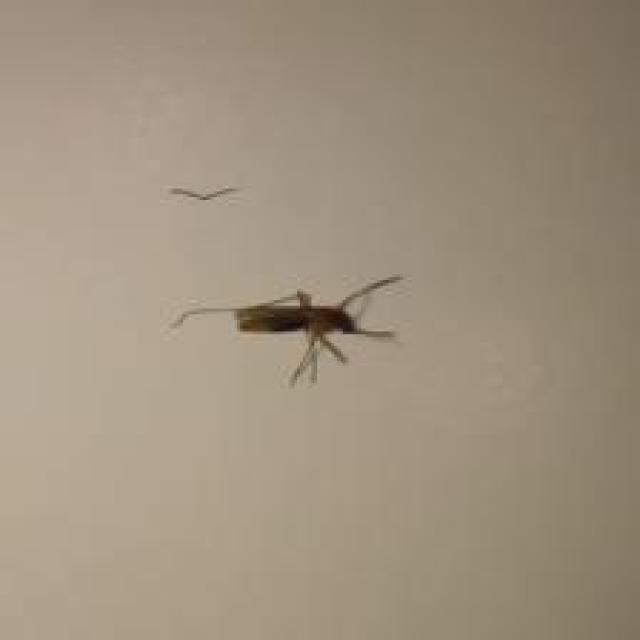Culex: (170, 273, 404, 387)
